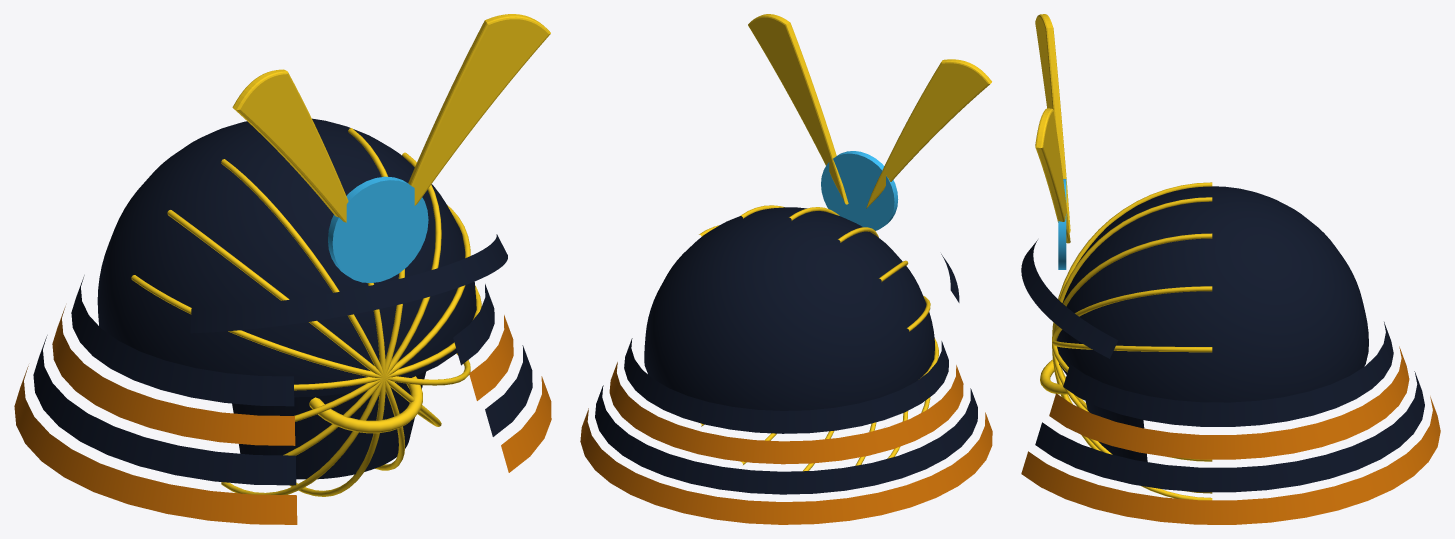
Rendered from helmet.glb.
3 views of the same model, side by side, from view 1: azimuth 30°, elevation 25°; view 2: azimuth 150°, elevation 25°; view 3: azimuth 270°, elevation 25° (orthographic). The views are drawn at different scales.
Size of the model in its own units: 3.39 by 3.57 by 3.21.
